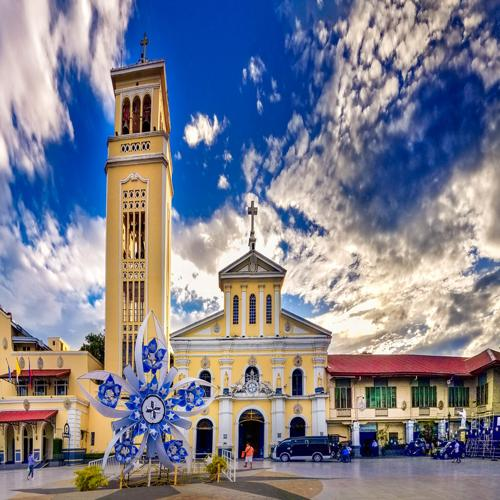Manaoag Church: (89, 29, 329, 460)
